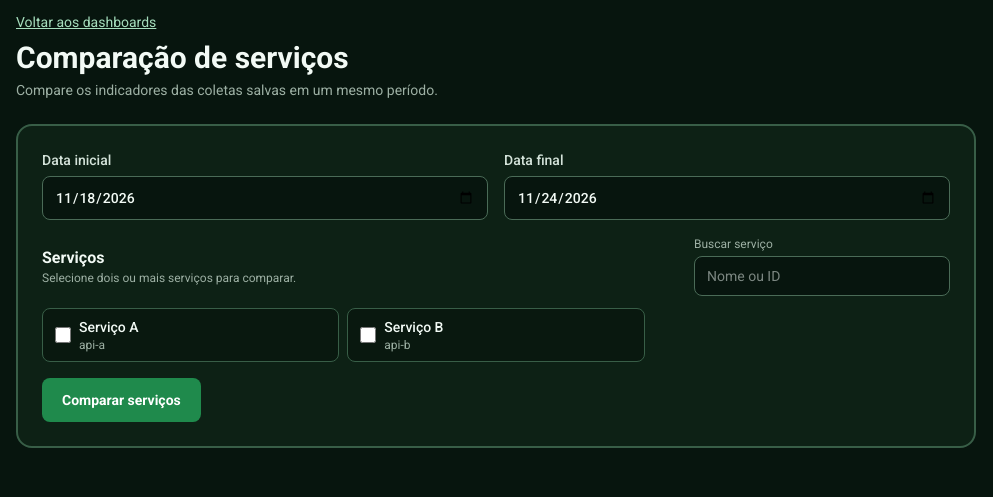
Test: ServiceComparisonPage › informa seleção insuficiente sem consultar o histórico
Check: the checkbox labelled "Serviço A api-a" is shown, box [55,327,71,343]
Click the button "Comparar serviços" at point(121, 400), box [42,378,201,422]
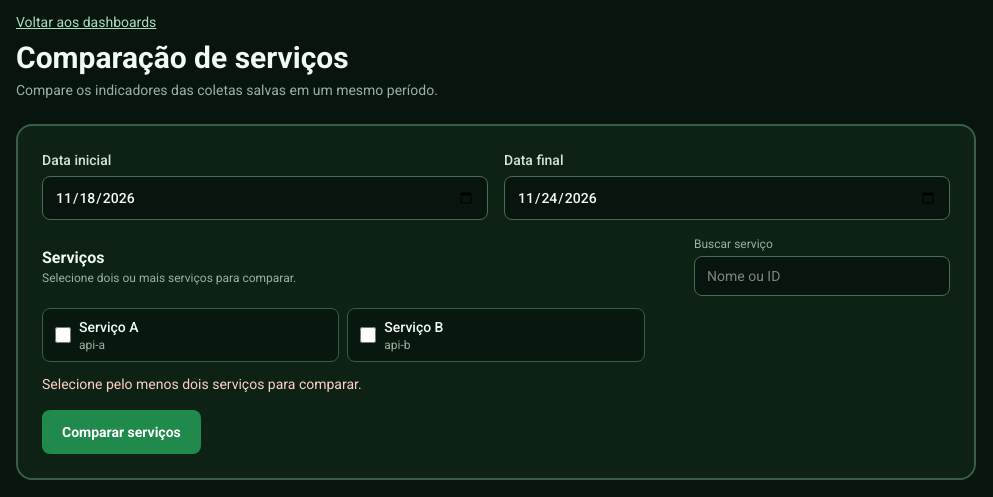
Check: the message shows "Selecione pelo menos dois serviços", box [42,376,362,392]
